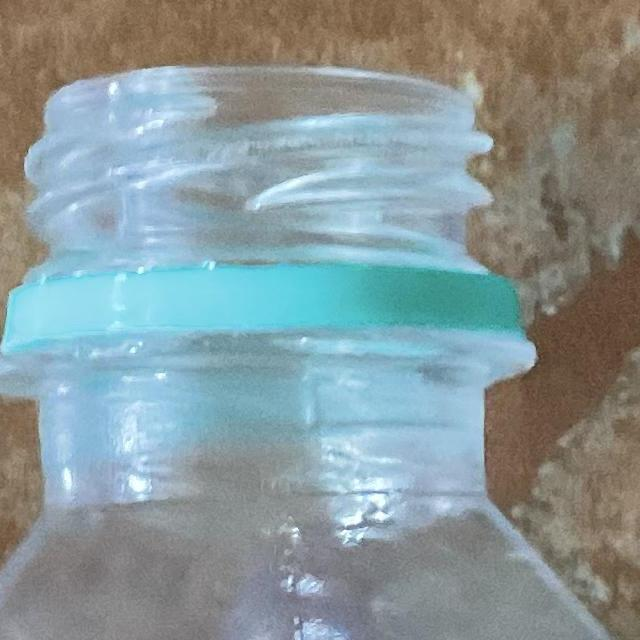open-cap: (10, 47, 541, 364)
